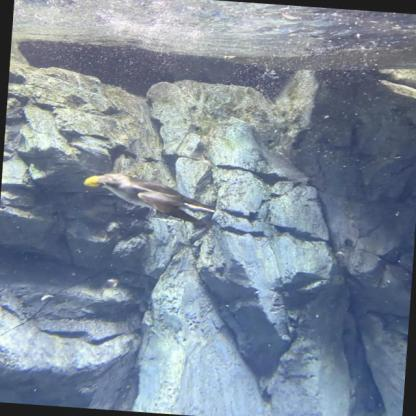puffin: (80, 169, 219, 223)
